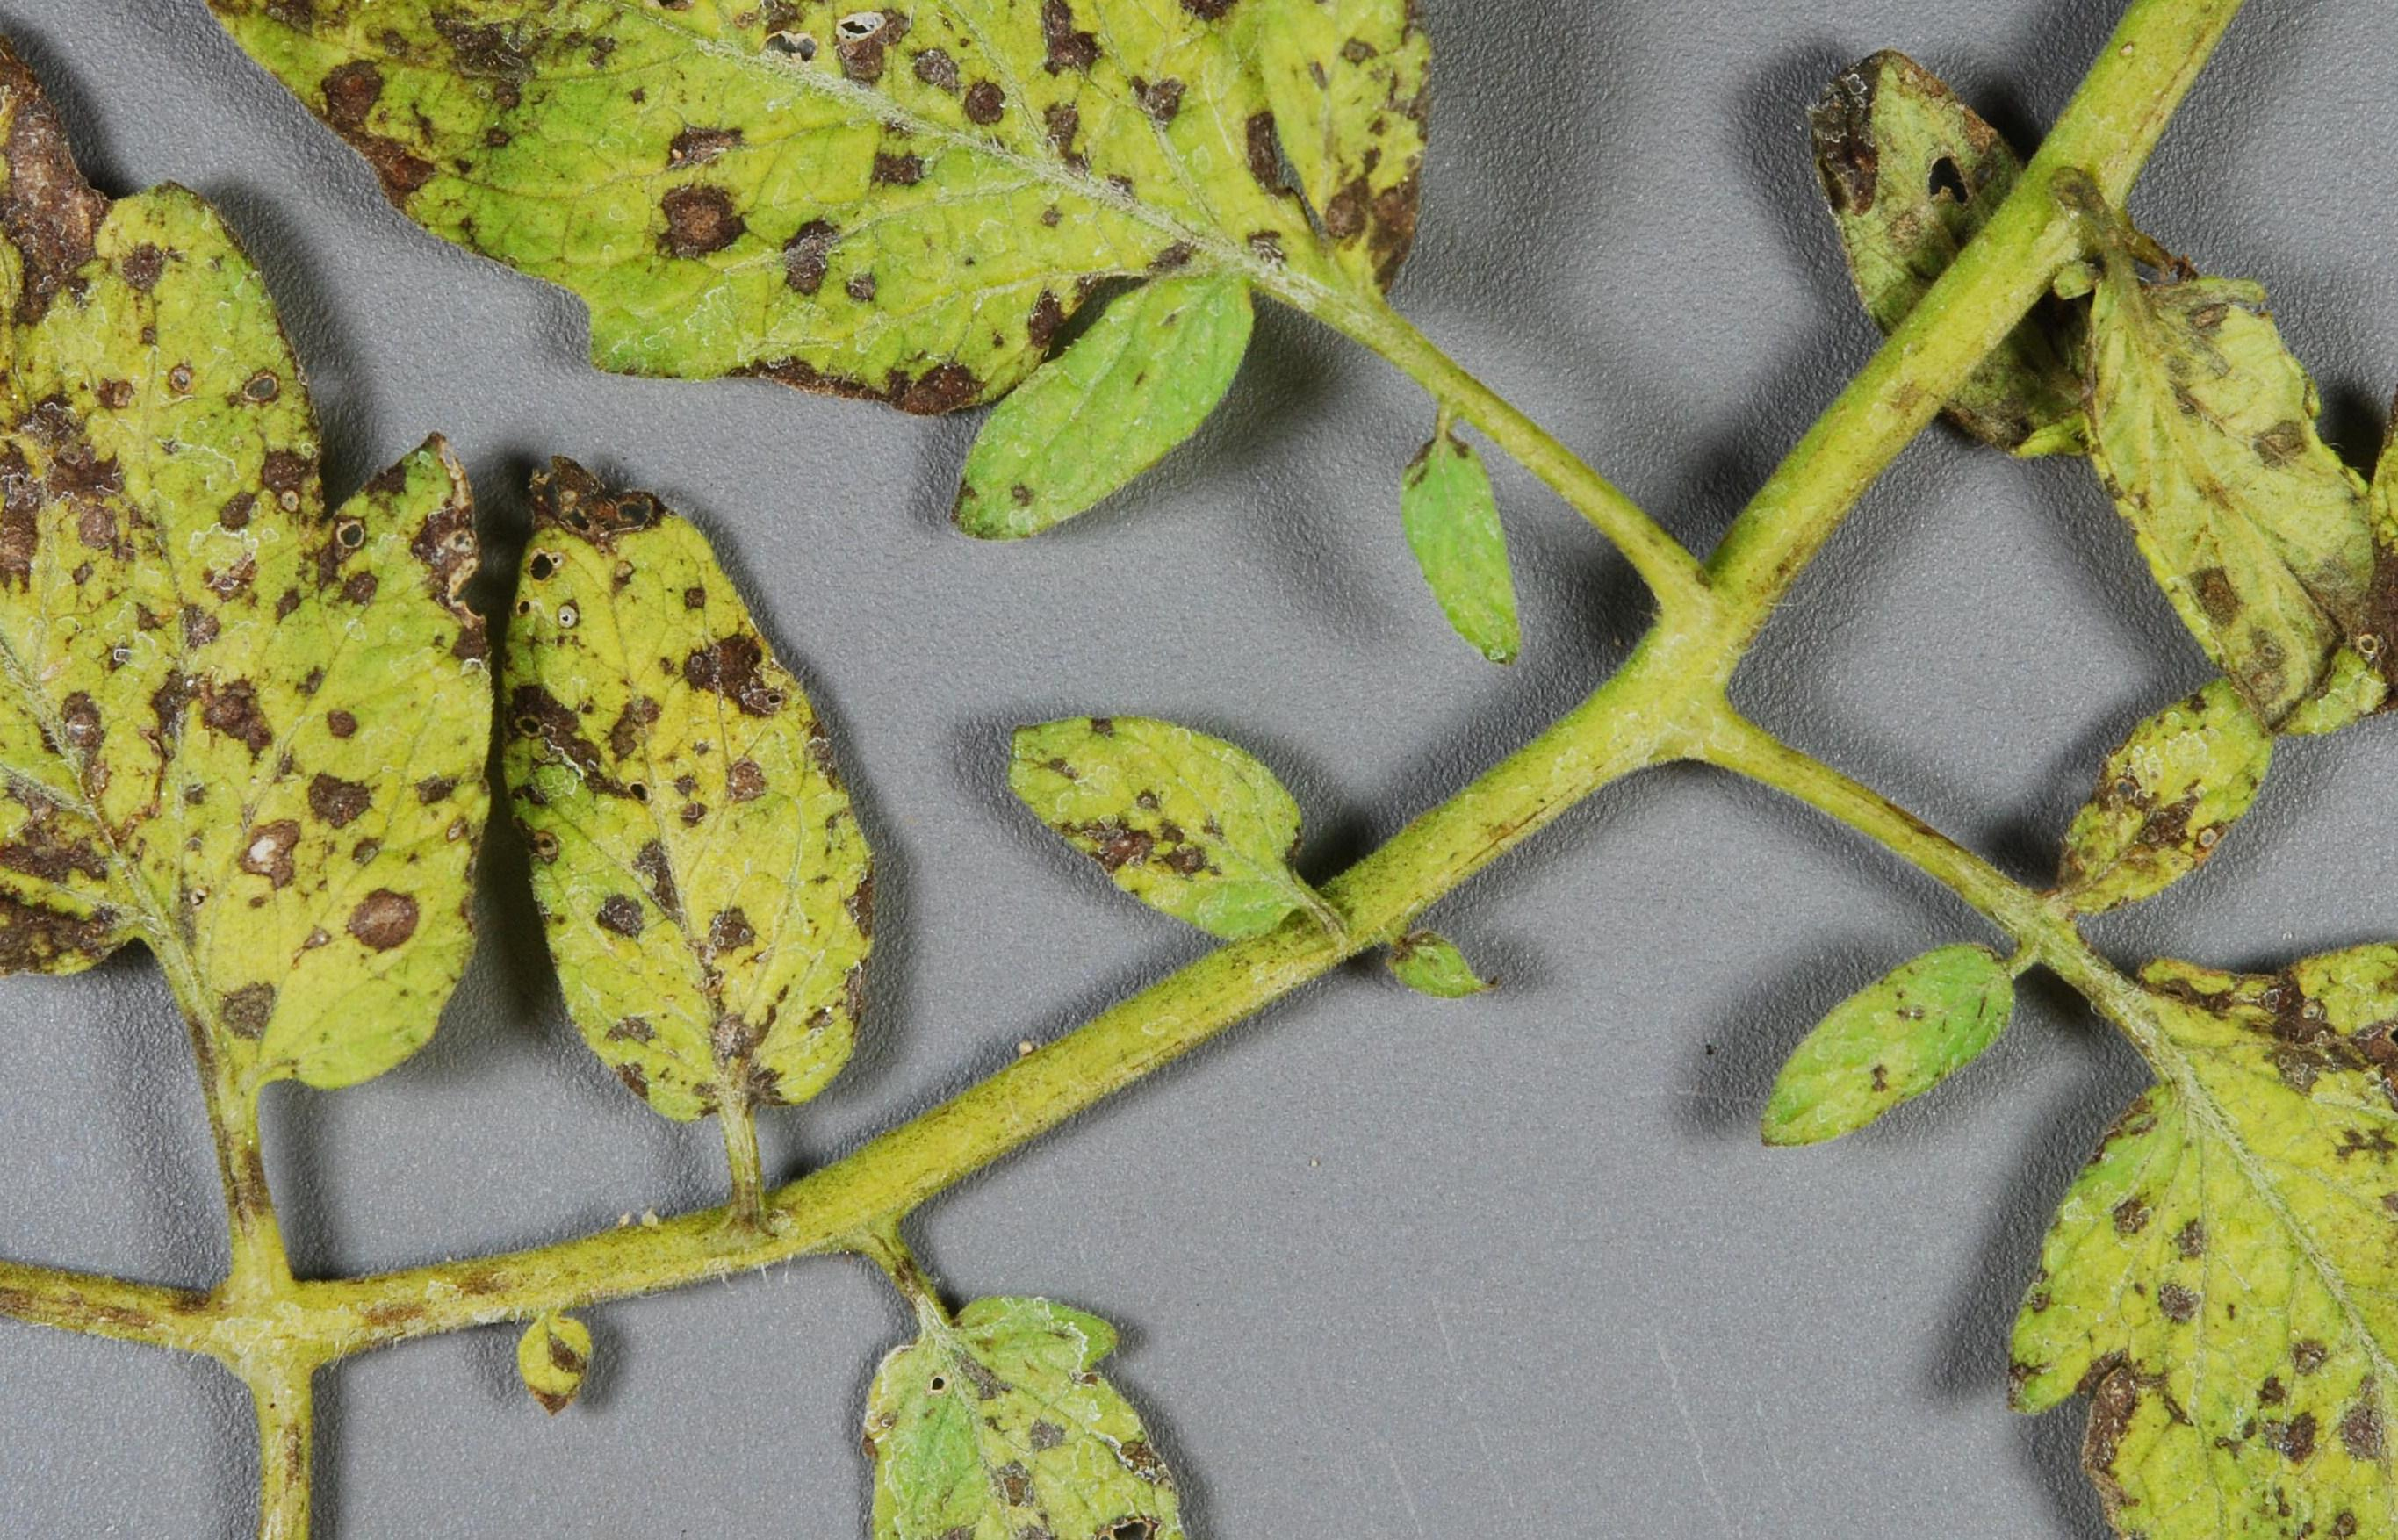Tomato Septoria leaf spot: (0, 0, 1458, 469), (0, 0, 500, 1187), (1901, 842, 2398, 1540), (444, 410, 873, 1120), (2078, 182, 2398, 787), (774, 1277, 1316, 1540), (958, 625, 1336, 954)
